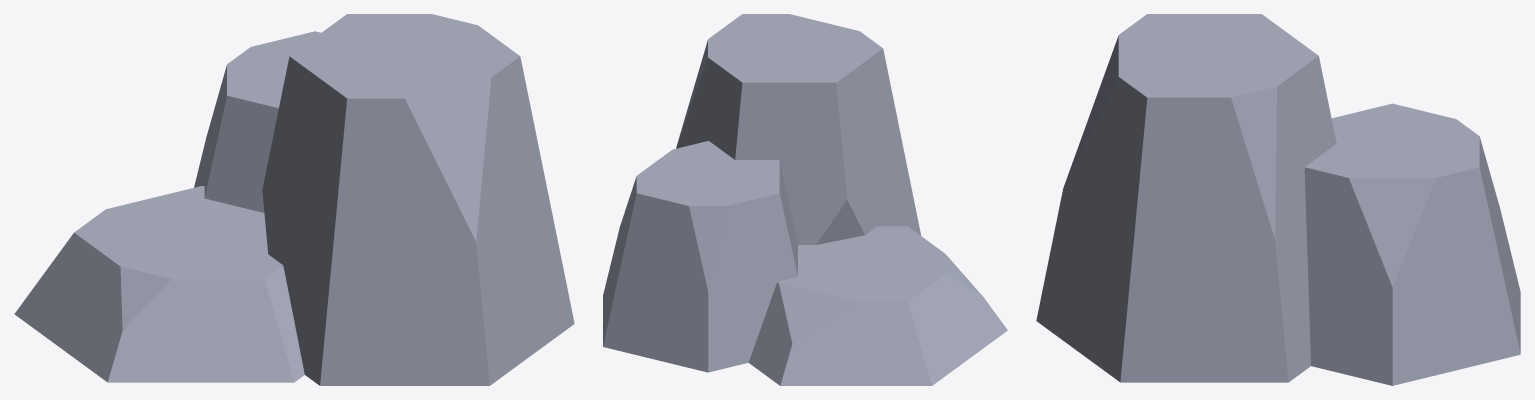
The model's file is rocks.dae.
The picture shows the model from 3 angles, left to right: view 1: azimuth 30°, elevation 25°; view 2: azimuth 150°, elevation 25°; view 3: azimuth 270°, elevation 25°; orthographic projection. The views are drawn at different scales.
Visible parts, largest first — view 1: rocks; view 2: rocks; view 3: rocks.
Part boxes in pixels (bbox=[...]): rocks: bbox=[14, 14, 574, 385]; rocks: bbox=[603, 14, 1007, 385]; rocks: bbox=[1036, 14, 1520, 385].
Size of the model in its own units: 0.6531 by 0.4 by 0.6623.
